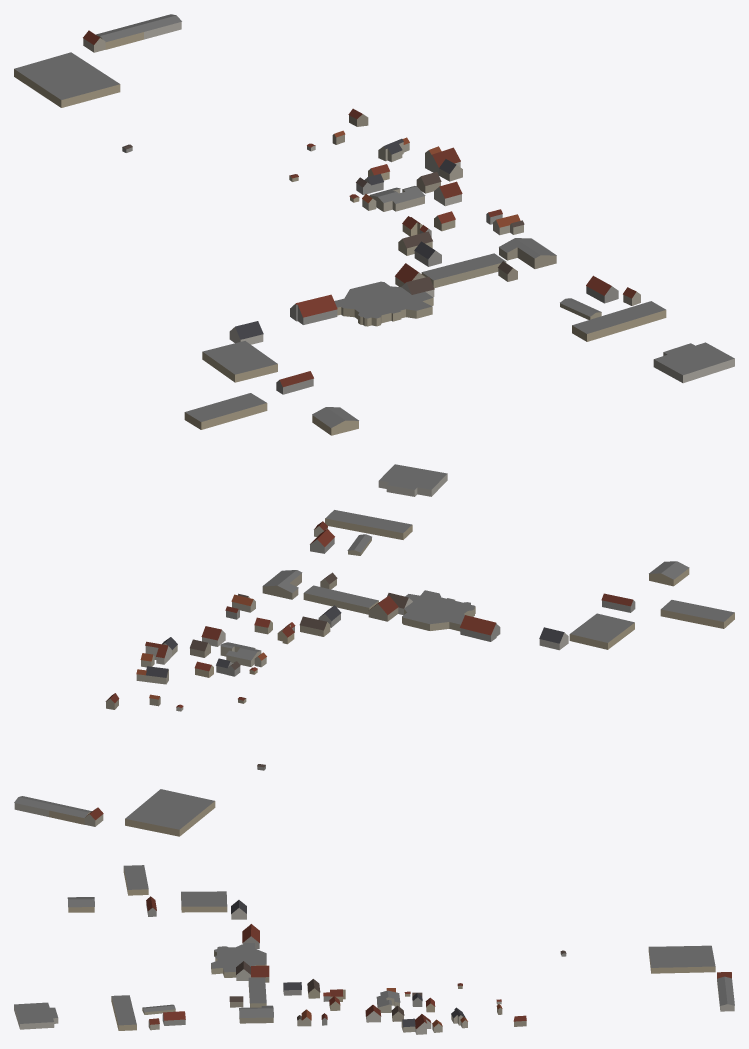
3 views of the same model, one above another, from view 1: azimuth 30°, elevation 25°; view 2: azimuth 150°, elevation 25°; view 3: azimuth 270°, elevation 25° (orthographic). The views are drawn at different scales.
Visible parts, largest first — view 1: buildings; view 2: buildings; view 3: buildings.
Part boxes in pixels (bbox=[...]): buildings: bbox=[14, 14, 734, 435]; buildings: bbox=[14, 464, 734, 836]; buildings: bbox=[14, 865, 734, 1034].
Size of the model in its own units: 367 by 15.74 by 687.
